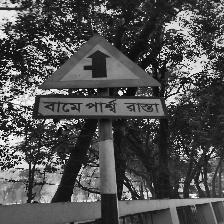Side-road-left: (34, 33, 168, 123)
